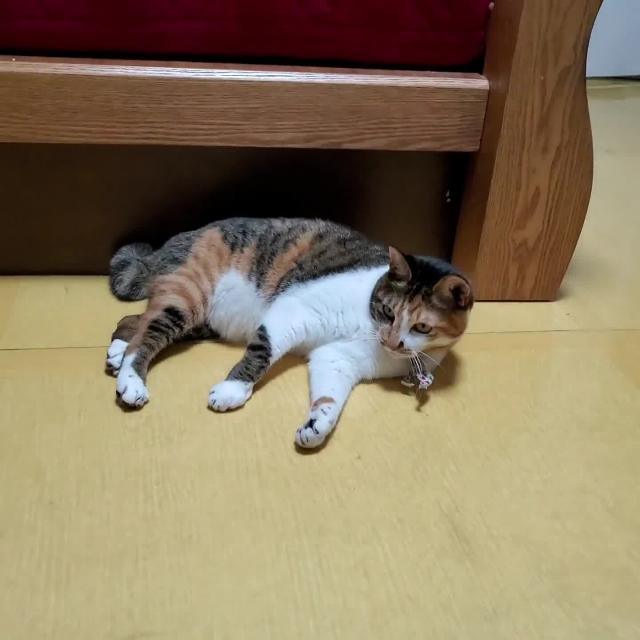cat: (62, 178, 510, 469)
